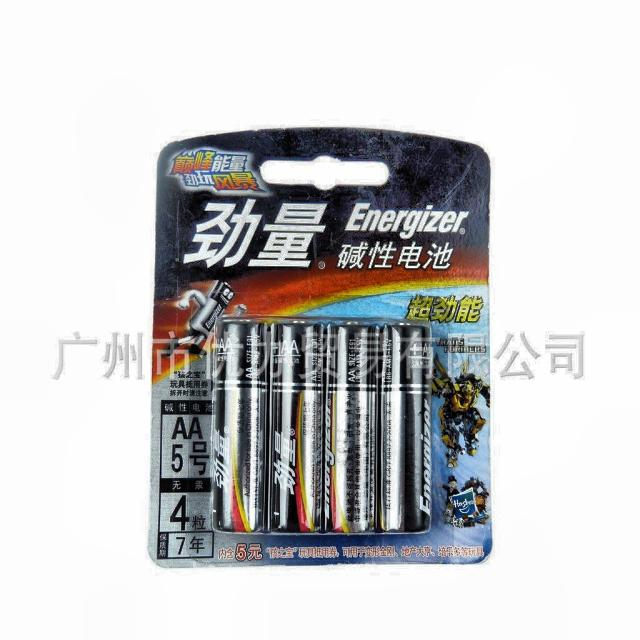Non-Valuable Waste - Batteries: (211, 318, 432, 533)
